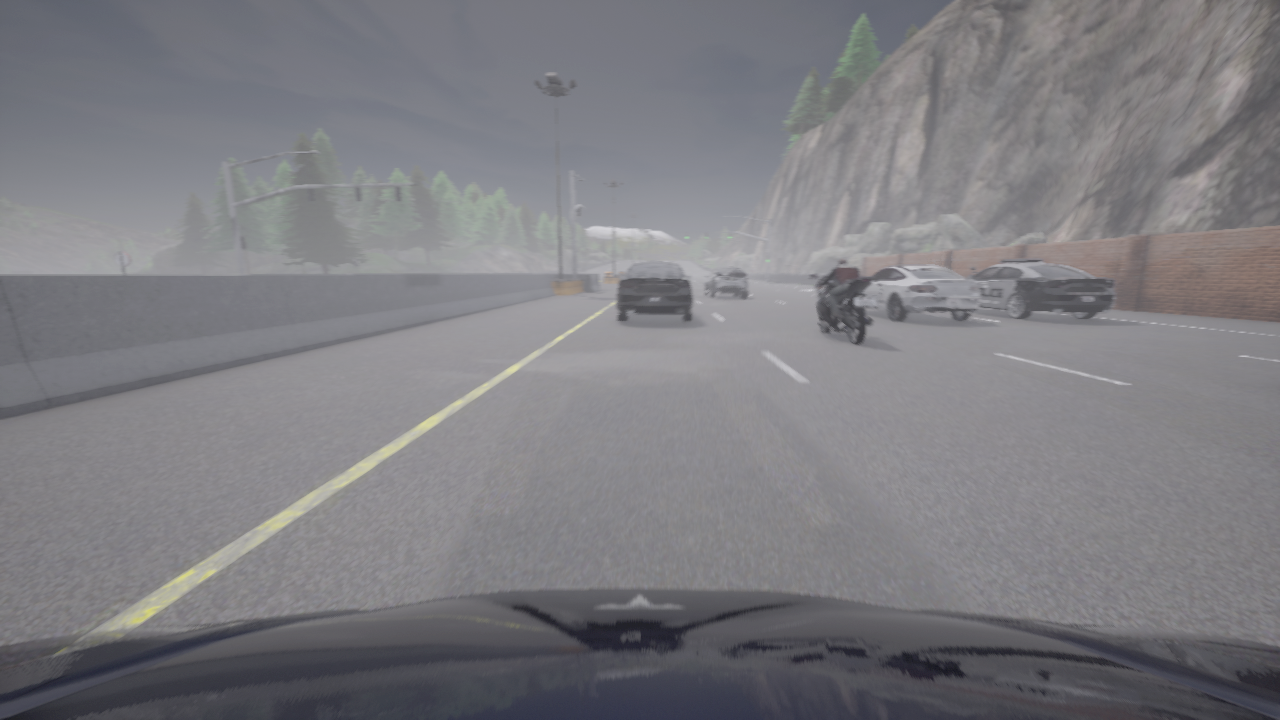cyclist: (0, 588, 1279, 719), (966, 258, 1114, 319), (862, 264, 979, 320), (810, 273, 878, 345), (617, 261, 693, 321), (704, 267, 747, 297)
